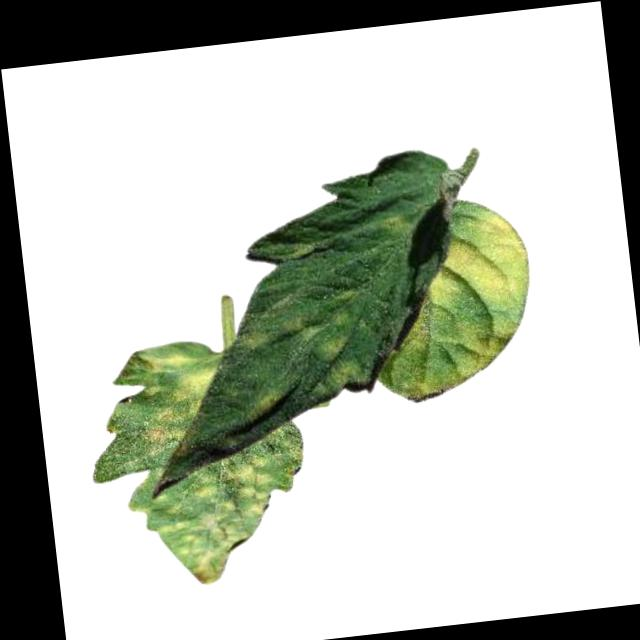Leaf_Mold: (148, 449, 287, 591), (398, 309, 530, 402), (419, 209, 535, 313), (133, 342, 228, 456), (282, 308, 355, 360), (242, 387, 292, 424), (324, 353, 368, 389), (380, 212, 419, 252), (235, 321, 273, 354)
